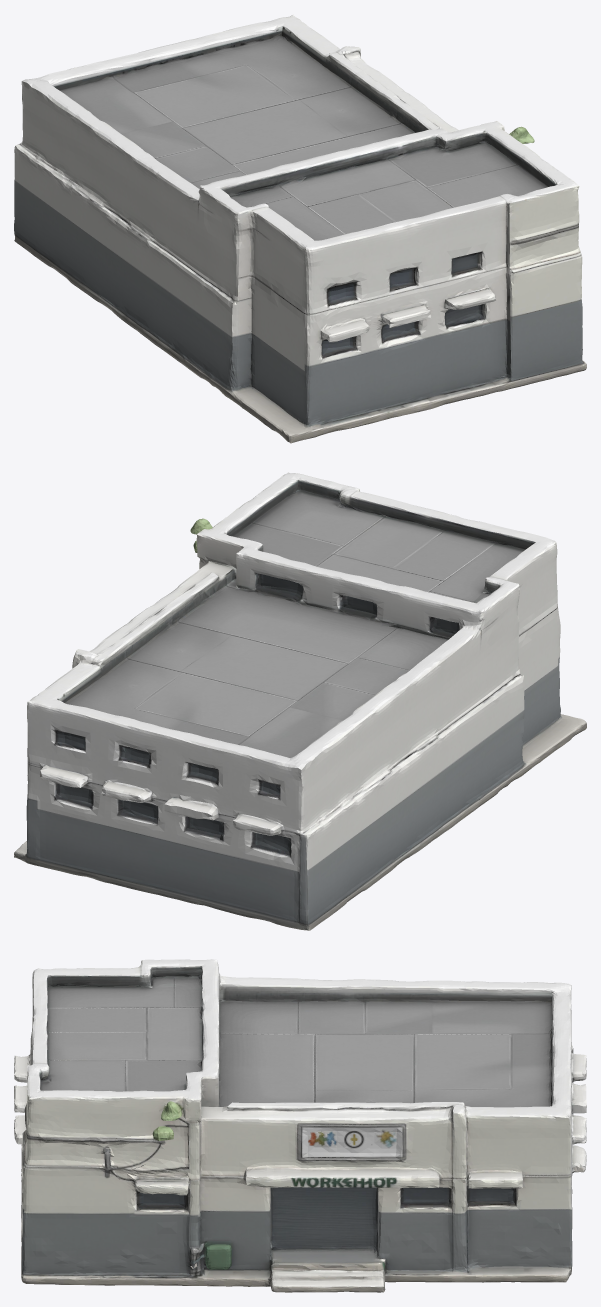
The model's file is ITI_lab.glb.
3 views of the same model, one above another, from view 1: azimuth 30°, elevation 25°; view 2: azimuth 150°, elevation 25°; view 3: azimuth 270°, elevation 25° (orthographic).
Parts seen in each view (by area): view 1: tripo_node_94b617da-e597-4e21-bd1b-dbf8161fab3f; view 2: tripo_node_94b617da-e597-4e21-bd1b-dbf8161fab3f; view 3: tripo_node_94b617da-e597-4e21-bd1b-dbf8161fab3f.
Boxes of the visible parts, bbox=[...] form: tripo_node_94b617da-e597-4e21-bd1b-dbf8161fab3f: bbox=[14, 14, 586, 443]; tripo_node_94b617da-e597-4e21-bd1b-dbf8161fab3f: bbox=[14, 472, 586, 930]; tripo_node_94b617da-e597-4e21-bd1b-dbf8161fab3f: bbox=[14, 959, 586, 1292].
Bounding box in the file's own units: 0.644 × 0.3588 × 1.
Materials: 1 (1 with a texture image).
